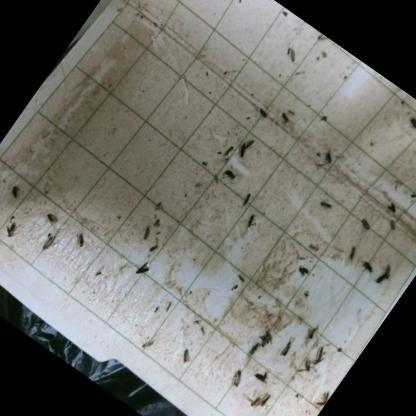prays_oleae: (230, 131, 258, 164), (223, 362, 249, 390), (278, 43, 303, 72), (130, 255, 155, 283), (274, 334, 299, 362), (36, 230, 62, 256), (317, 145, 342, 171), (249, 363, 274, 388), (134, 218, 158, 244), (255, 386, 277, 412), (314, 195, 338, 218), (173, 344, 196, 368), (354, 256, 378, 278), (1, 218, 23, 242), (354, 212, 376, 235), (136, 334, 158, 356), (258, 324, 280, 346), (296, 353, 317, 376), (3, 181, 24, 204), (38, 210, 62, 230), (312, 387, 332, 411), (242, 338, 262, 362), (242, 390, 262, 414), (400, 110, 416, 139), (235, 188, 256, 210), (242, 210, 262, 233), (292, 262, 314, 282), (382, 258, 402, 280), (254, 100, 274, 121), (342, 242, 362, 262), (72, 228, 90, 248), (371, 269, 388, 290), (221, 168, 239, 186), (384, 216, 400, 233), (313, 32, 329, 47), (386, 200, 400, 214), (409, 220, 416, 248), (299, 20, 312, 30)
